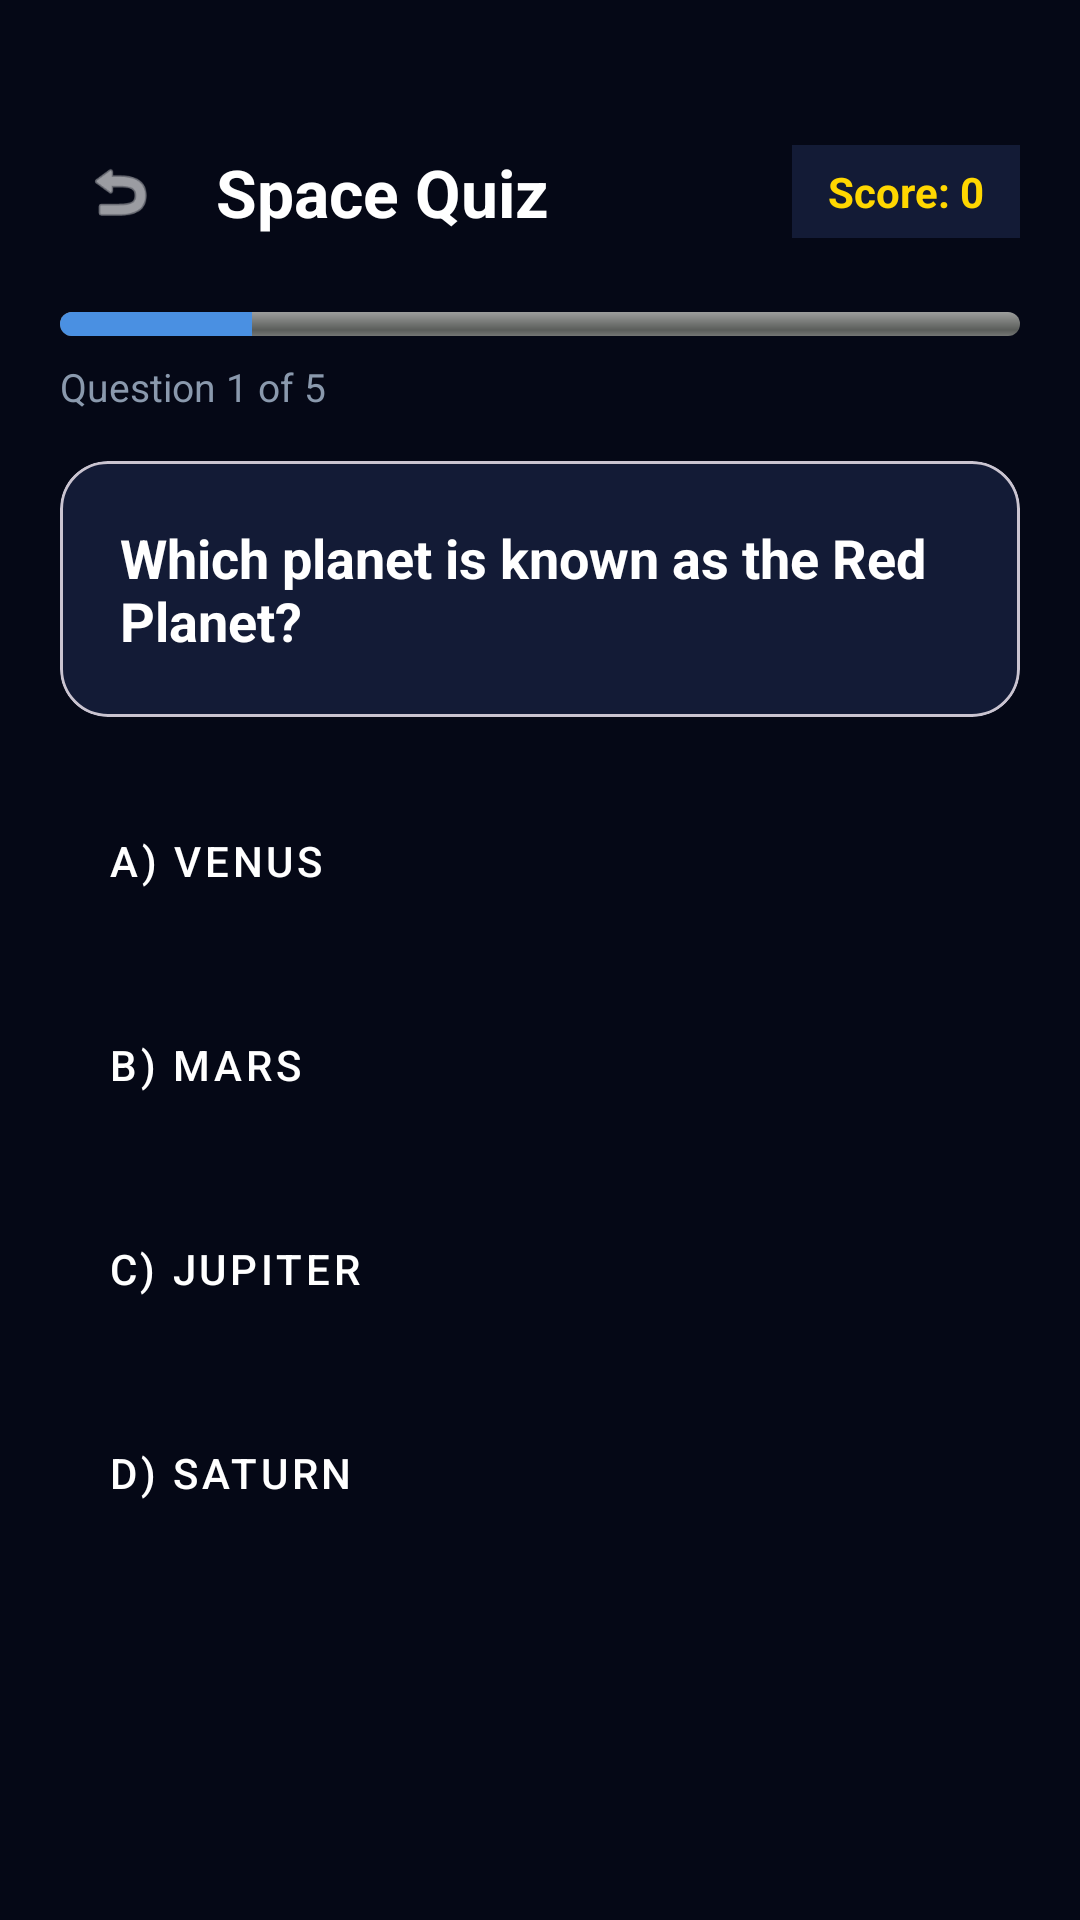

Where to tap for icons on this 1080px x 1920px app screen, as [x,y]:
Back: [121,192]
